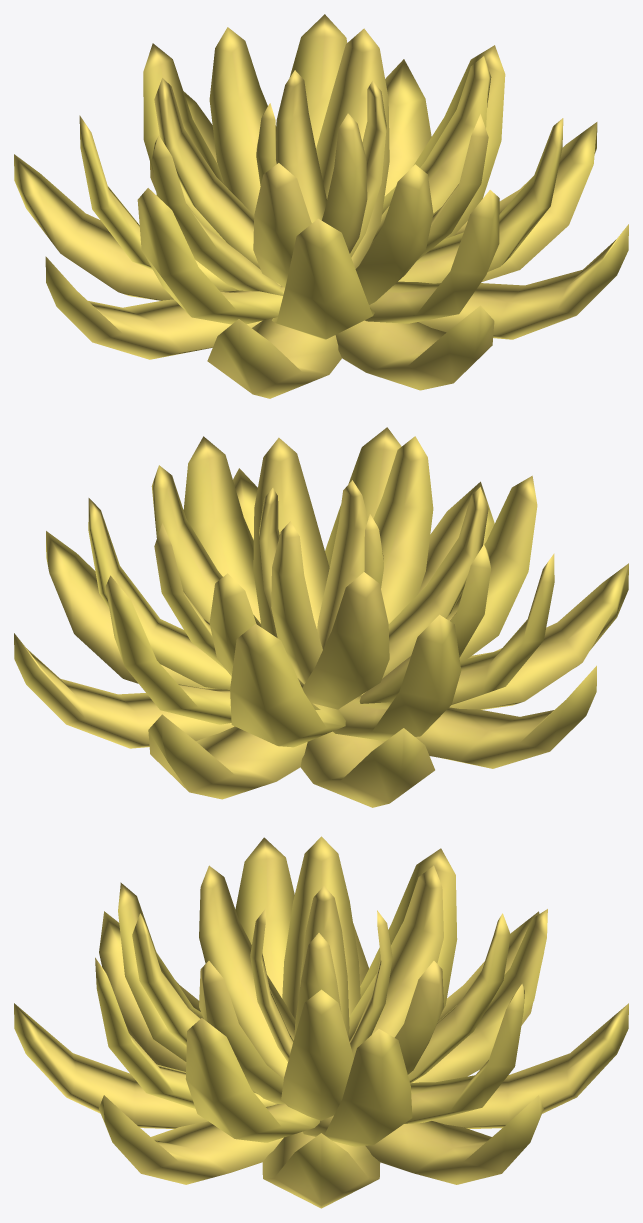
The model's file is kiku.fbx.
3 renders of one model, top to bottom at view 1: azimuth 30°, elevation 25°; view 2: azimuth 150°, elevation 25°; view 3: azimuth 270°, elevation 25°, orthographic. The views are drawn at different scales.
Visible parts, largest first — view 1: kiku; view 2: kiku; view 3: kiku.
Part boxes in pixels (x1,y1,x2,y2): kiku: [14, 14, 628, 398]; kiku: [14, 427, 628, 807]; kiku: [14, 836, 628, 1208].
Size of the model in its own units: 0.3277 by 0.1301 by 0.3277.
Materials: 1 (1 with a texture image).
